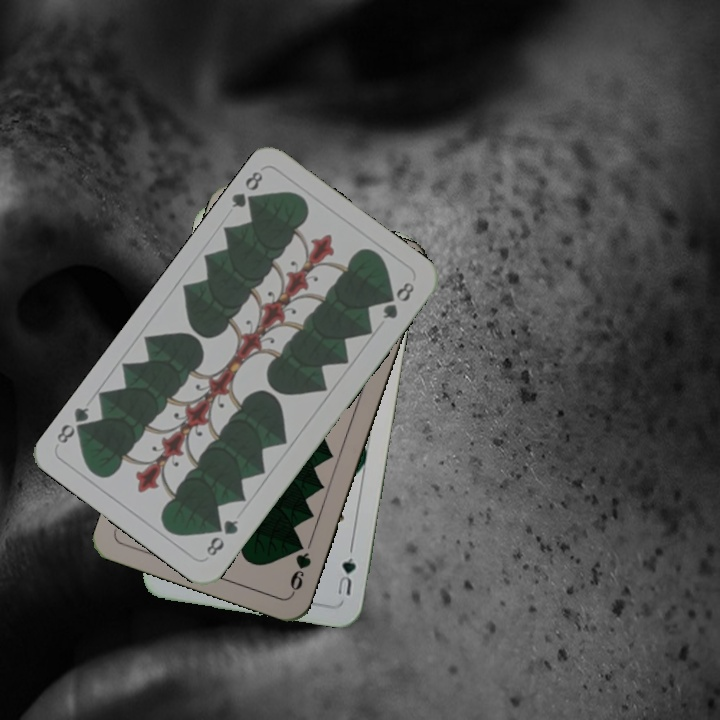G8: (227, 167, 266, 213), (202, 515, 241, 559)
G9: (286, 536, 314, 597)
GU: (333, 553, 359, 598)
